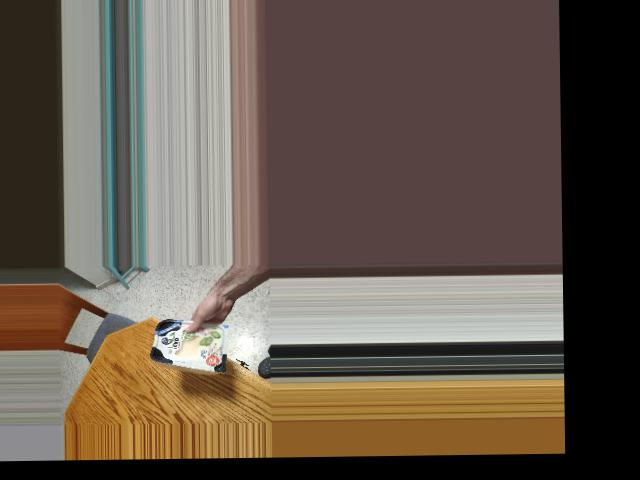cheese: (150, 304, 233, 378)
